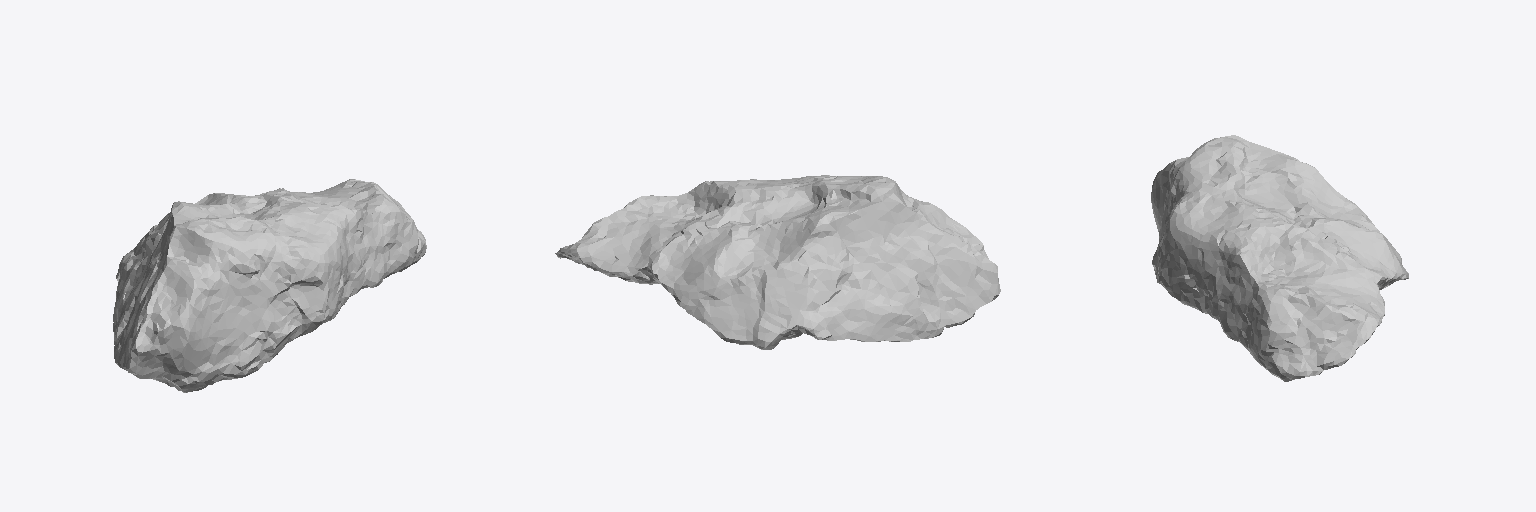
Rendered from moss rock 10.obj.
3 renders of one model, left to right at view 1: azimuth 30°, elevation 25°; view 2: azimuth 150°, elevation 25°; view 3: azimuth 270°, elevation 25°, orthographic.
Size of the model in its own units: 2.51 by 0.9687 by 1.56.